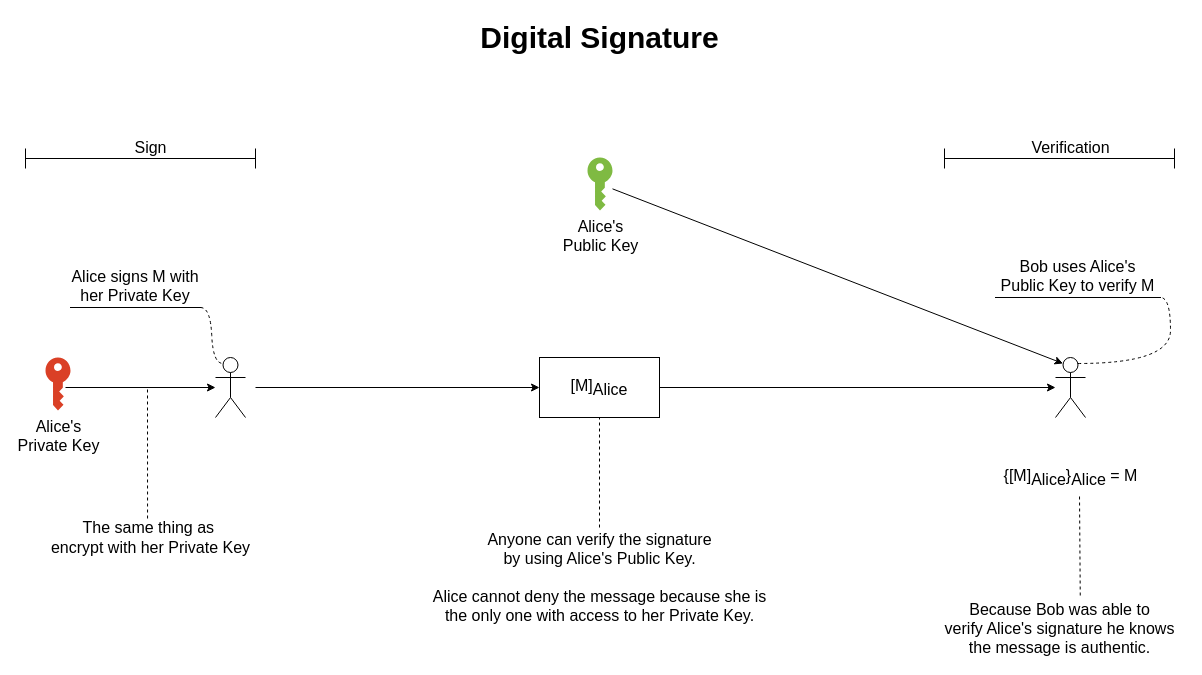
Image size: 1202x675. Some labels were removed from this diagram. Here are the shapes that lost their labels. From the top down, the box of each, then its label:
(214, 356, 246, 418): Alice
(1054, 356, 1086, 418): Bob
